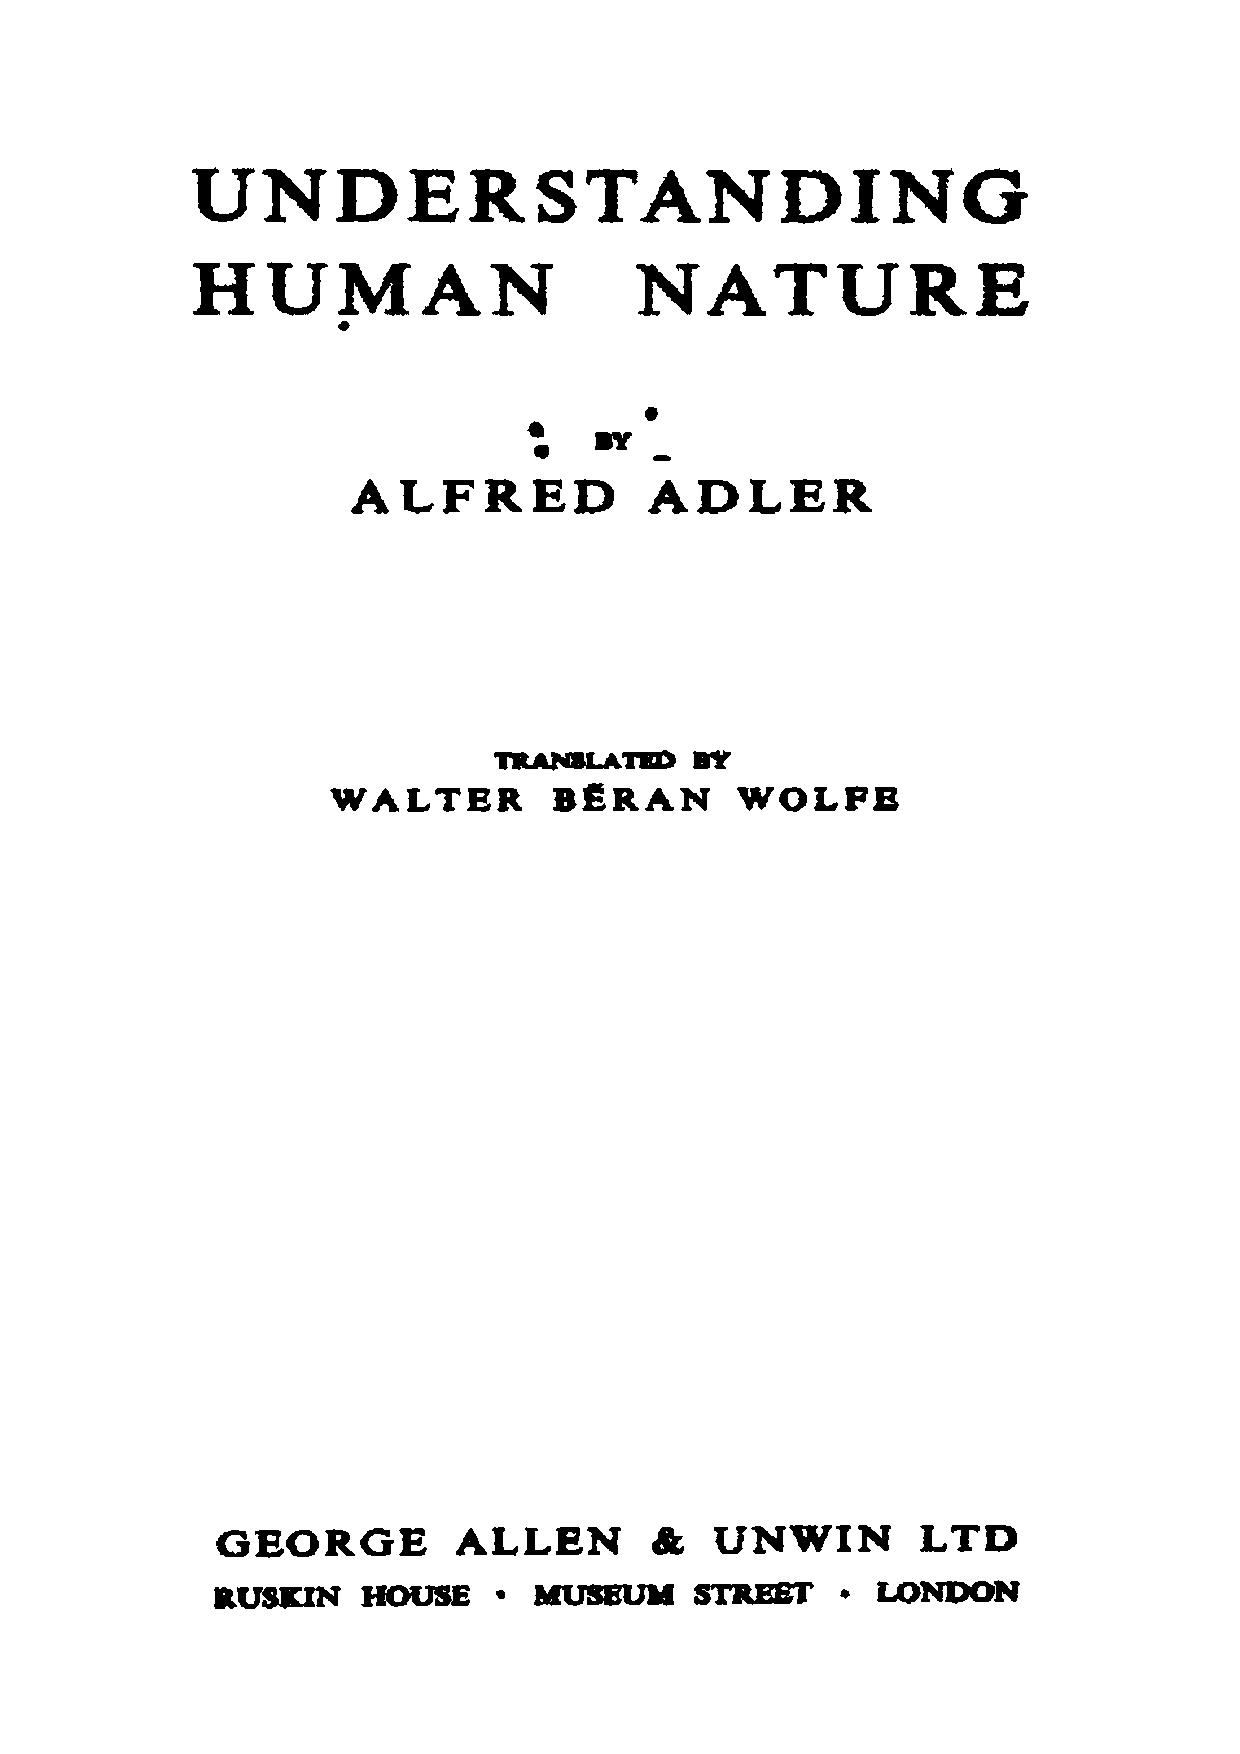author: (348, 429, 874, 514)
title: (188, 164, 1031, 319)
